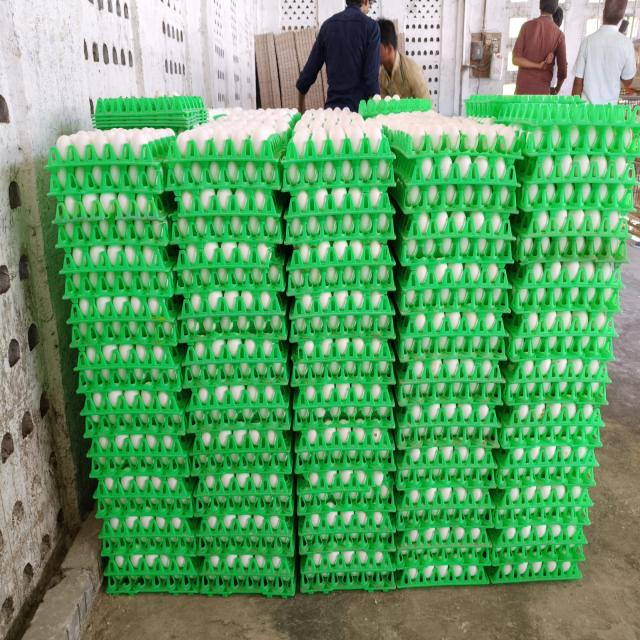egg_tray: (492, 122, 636, 582), (396, 211, 510, 586), (50, 130, 179, 410), (181, 289, 295, 595), (294, 335, 394, 591), (188, 383, 294, 595), (392, 116, 516, 294), (48, 129, 174, 299), (294, 382, 394, 591), (498, 309, 615, 487), (491, 397, 602, 582), (396, 310, 505, 492), (294, 333, 394, 524), (396, 401, 499, 586), (185, 334, 292, 509), (193, 420, 295, 595), (292, 291, 392, 467), (90, 434, 199, 592), (192, 429, 294, 595), (184, 336, 292, 492), (296, 420, 394, 591), (296, 421, 394, 591), (285, 187, 393, 341), (59, 204, 176, 346), (396, 422, 495, 587), (174, 196, 286, 341), (76, 338, 189, 481), (508, 262, 620, 403), (180, 242, 288, 388), (496, 354, 610, 487), (185, 336, 292, 476), (496, 356, 609, 488), (510, 209, 628, 334), (493, 403, 601, 538), (82, 389, 193, 518), (396, 442, 495, 586), (293, 335, 394, 473), (188, 385, 293, 517), (511, 105, 640, 211), (293, 337, 394, 472), (382, 112, 519, 211), (73, 316, 184, 438), (194, 470, 294, 594), (297, 423, 393, 551), (395, 209, 512, 314), (86, 406, 194, 519), (395, 210, 512, 314), (297, 468, 394, 592), (293, 355, 394, 474), (57, 201, 177, 301), (285, 187, 394, 296), (56, 203, 175, 301), (296, 417, 394, 535), (180, 283, 288, 390), (173, 189, 284, 292), (285, 187, 393, 289), (168, 109, 295, 194), (395, 310, 506, 407), (503, 310, 615, 405), (48, 129, 173, 213), (489, 483, 592, 582), (488, 485, 592, 583), (396, 483, 494, 587), (491, 485, 592, 582), (191, 420, 292, 516), (282, 109, 394, 193), (495, 401, 602, 488), (519, 181, 634, 259), (296, 468, 395, 553), (81, 386, 186, 466), (198, 511, 296, 596), (100, 512, 200, 593), (375, 111, 520, 166), (500, 103, 640, 158), (395, 352, 504, 422), (47, 127, 175, 185), (168, 132, 282, 195), (54, 194, 170, 253), (518, 154, 636, 211), (298, 496, 395, 565), (89, 434, 190, 500), (81, 385, 188, 447), (510, 289, 612, 354), (60, 244, 176, 301), (394, 210, 514, 265), (283, 134, 394, 193), (394, 261, 510, 317), (284, 187, 395, 245), (172, 189, 284, 246), (513, 210, 628, 265), (284, 187, 394, 244), (288, 239, 395, 297), (509, 260, 623, 313), (394, 147, 518, 195), (180, 289, 288, 344), (183, 335, 289, 390), (396, 526, 491, 587), (176, 241, 285, 294), (490, 523, 586, 583), (395, 311, 507, 362), (506, 311, 617, 362), (289, 290, 395, 343), (68, 295, 178, 346), (516, 154, 634, 201), (295, 420, 395, 475), (396, 356, 504, 406), (75, 343, 184, 392), (394, 147, 518, 189), (96, 475, 194, 528), (395, 403, 502, 451), (291, 337, 395, 386), (188, 383, 291, 432), (396, 441, 496, 491), (190, 428, 292, 477), (498, 402, 604, 449), (78, 340, 183, 387), (390, 174, 516, 213), (390, 175, 516, 213), (300, 543, 395, 593), (99, 515, 196, 563), (196, 511, 295, 558), (293, 382, 394, 428), (88, 434, 190, 479), (492, 484, 593, 529), (495, 444, 598, 488), (396, 485, 494, 531), (303, 519, 365, 590), (82, 395, 186, 437), (95, 475, 194, 519), (300, 549, 395, 593), (200, 554, 296, 597), (92, 96, 208, 130), (105, 554, 200, 595), (105, 554, 201, 593), (517, 181, 634, 212), (209, 108, 300, 147), (176, 188, 282, 221), (286, 186, 392, 219), (177, 188, 282, 217), (91, 109, 208, 134), (294, 108, 370, 144), (396, 559, 488, 588), (465, 95, 581, 117), (190, 337, 268, 369), (92, 113, 206, 134), (92, 114, 205, 134), (104, 524, 176, 554), (96, 118, 202, 137), (106, 574, 199, 595), (358, 94, 432, 118), (208, 107, 300, 126), (511, 541, 583, 561), (528, 260, 598, 280), (532, 212, 590, 234), (92, 433, 122, 474), (297, 406, 340, 426), (518, 359, 584, 372), (207, 107, 256, 122), (330, 337, 366, 354), (324, 339, 358, 356), (547, 315, 572, 338), (556, 312, 582, 330), (102, 482, 131, 498), (354, 575, 388, 588), (174, 532, 194, 553), (138, 485, 175, 496), (138, 483, 171, 495), (325, 292, 352, 306), (106, 390, 140, 399), (492, 548, 510, 564), (92, 298, 120, 307), (106, 484, 130, 494), (346, 521, 364, 534), (317, 342, 331, 356), (300, 295, 314, 309), (396, 132, 409, 146), (378, 359, 392, 371), (560, 375, 574, 387), (308, 523, 321, 535), (396, 132, 408, 145), (352, 427, 366, 438), (476, 162, 486, 177), (252, 363, 267, 373), (543, 334, 564, 341), (372, 558, 384, 570), (336, 470, 364, 475), (305, 362, 320, 371), (74, 299, 89, 308), (438, 317, 450, 328), (88, 411, 100, 422), (526, 314, 537, 325), (90, 447, 101, 458), (353, 511, 368, 519), (376, 429, 388, 439), (423, 172, 440, 179), (351, 131, 364, 140), (544, 314, 554, 325), (328, 523, 340, 532), (103, 486, 115, 495), (448, 274, 458, 284), (91, 392, 100, 403), (514, 292, 523, 303), (512, 354, 526, 361), (146, 455, 154, 467), (114, 461, 126, 469), (441, 431, 448, 444), (550, 334, 565, 340), (284, 109, 298, 115), (307, 430, 317, 438), (418, 268, 426, 278), (327, 225, 337, 233), (499, 237, 510, 244), (501, 540, 512, 547), (122, 534, 133, 541), (369, 442, 380, 449), (294, 358, 300, 370), (456, 426, 464, 435), (527, 314, 536, 322), (384, 361, 392, 370), (574, 311, 588, 316), (151, 440, 156, 454), (316, 342, 322, 353), (464, 531, 475, 537), (568, 336, 581, 341), (246, 485, 254, 493), (185, 245, 194, 252), (574, 317, 580, 327), (509, 136, 515, 146), (274, 342, 284, 348), (218, 267, 226, 274), (584, 336, 592, 343), (155, 450, 163, 457), (374, 516, 380, 525), (85, 365, 91, 374), (473, 432, 483, 437), (453, 314, 460, 321), (123, 299, 130, 306), (566, 341, 573, 348), (374, 123, 381, 130), (242, 558, 248, 566), (198, 245, 206, 251), (609, 254, 617, 260), (312, 557, 318, 565), (294, 359, 300, 367), (156, 542, 164, 548), (356, 242, 362, 250), (256, 245, 265, 250), (561, 317, 570, 322), (585, 336, 592, 342), (366, 433, 373, 439), (592, 317, 597, 325), (254, 548, 264, 552), (524, 292, 532, 297), (298, 508, 302, 517), (240, 481, 244, 490), (180, 132, 192, 135), (124, 411, 130, 417), (148, 299, 157, 303), (299, 491, 303, 500), (453, 574, 462, 578), (386, 360, 391, 367), (225, 549, 232, 554), (260, 522, 264, 530), (376, 548, 384, 552), (446, 286, 450, 294), (152, 444, 156, 452), (615, 217, 619, 225), (207, 484, 213, 489), (222, 243, 227, 249), (96, 463, 102, 468), (149, 462, 155, 467), (479, 537, 484, 543), (444, 425, 450, 430), (569, 336, 576, 340), (178, 229, 182, 236), (154, 186, 161, 190), (111, 336, 120, 339), (341, 538, 346, 543), (130, 487, 135, 492), (294, 362, 299, 367), (112, 451, 117, 456), (435, 551, 440, 556), (325, 242, 330, 247), (358, 565, 364, 569), (197, 199, 200, 207), (602, 314, 606, 320), (384, 526, 390, 530), (111, 463, 117, 467), (180, 461, 184, 467), (469, 438, 473, 444), (450, 422, 456, 426), (327, 425, 331, 431), (533, 577, 544, 579), (372, 532, 383, 534), (364, 546, 371, 549), (592, 361, 599, 364), (530, 186, 537, 189), (334, 317, 337, 324), (329, 317, 332, 324), (385, 527, 389, 532), (365, 517, 370, 521), (247, 487, 251, 492), (195, 131, 200, 135), (125, 461, 130, 465), (151, 461, 155, 466), (468, 160, 472, 165), (552, 343, 556, 348), (380, 341, 384, 346), (426, 574, 430, 579), (286, 132, 290, 137), (256, 109, 262, 112), (241, 483, 244, 489), (411, 432, 417, 435), (461, 299, 467, 302), (460, 547, 469, 549), (83, 407, 86, 413), (267, 132, 270, 138), (316, 549, 320, 553), (405, 254, 409, 258), (472, 317, 476, 321), (558, 312, 562, 316), (214, 565, 218, 569), (120, 404, 124, 408), (159, 463, 163, 467), (59, 204, 61, 212), (179, 202, 182, 207), (103, 458, 106, 463), (107, 447, 110, 452), (115, 321, 120, 324), (96, 299, 101, 302), (465, 576, 470, 579), (361, 341, 363, 348), (318, 430, 322, 433), (87, 398, 89, 404), (269, 525, 272, 529), (329, 317, 331, 323), (389, 316, 392, 320), (559, 336, 563, 339), (207, 493, 211, 496), (549, 312, 555, 314), (257, 273, 260, 277), (429, 405, 433, 408), (603, 336, 606, 340), (436, 300, 440, 303), (400, 300, 402, 306), (436, 277, 440, 280), (326, 452, 330, 455), (122, 465, 125, 469), (496, 176, 500, 179), (576, 121, 579, 125), (184, 491, 188, 494), (531, 327, 535, 330), (106, 546, 110, 549), (140, 533, 143, 537), (462, 519, 464, 525), (338, 145, 342, 148), (470, 236, 472, 241), (506, 385, 508, 390), (577, 338, 582, 340), (400, 281, 402, 286), (179, 364, 181, 369), (146, 307, 148, 312), (384, 572, 387, 575), (387, 574, 390, 577), (385, 558, 388, 561), (257, 484, 260, 487), (567, 312, 570, 315), (523, 185, 526, 188), (503, 574, 506, 577), (313, 132, 316, 135), (367, 428, 370, 431), (301, 247, 304, 250), (359, 547, 363, 549), (298, 368, 300, 372), (584, 488, 586, 492), (194, 200, 196, 204), (418, 361, 422, 363), (226, 278, 228, 282), (444, 301, 448, 303), (208, 567, 210, 571), (141, 461, 145, 463), (424, 552, 428, 554), (571, 548, 573, 552), (583, 345, 587, 347), (316, 300, 320, 302), (386, 390, 388, 394), (324, 524, 326, 527), (412, 198, 414, 201), (354, 567, 356, 570), (308, 561, 310, 564), (304, 351, 306, 354), (418, 327, 420, 330), (267, 110, 273, 111), (262, 109, 264, 112), (183, 194, 186, 196), (426, 363, 428, 366), (443, 361, 446, 363), (231, 418, 234, 420), (281, 286, 283, 289), (389, 132, 391, 135), (510, 131, 513, 133), (423, 115, 426, 117), (550, 247, 552, 250), (464, 162, 466, 165), (163, 317, 166, 319), (133, 490, 135, 493), (389, 316, 391, 319), (183, 550, 186, 552), (328, 364, 331, 366), (360, 293, 362, 296), (353, 292, 356, 294), (299, 468, 302, 470), (334, 243, 337, 245), (343, 242, 346, 244), (420, 578, 423, 580), (481, 577, 484, 579), (416, 495, 418, 498), (325, 136, 327, 139), (470, 314, 475, 315), (197, 364, 202, 365), (316, 540, 318, 542), (355, 535, 357, 537), (337, 427, 341, 428), (408, 151, 410, 153), (588, 337, 590, 339), (400, 245, 401, 249), (218, 487, 220, 489), (234, 416, 236, 418), (578, 382, 580, 384), (235, 249, 237, 251), (529, 420, 531, 422), (208, 572, 210, 574), (216, 231, 220, 232), (145, 380, 147, 382), (144, 373, 146, 375), (89, 407, 91, 409), (173, 340, 174, 344), (610, 265, 612, 267), (466, 166, 468, 168), (78, 205, 80, 207), (498, 573, 499, 577), (148, 563, 152, 564), (314, 349, 318, 350), (162, 525, 164, 527), (426, 582, 430, 583), (387, 523, 390, 524), (540, 369, 541, 372), (131, 411, 134, 412), (608, 269, 609, 272), (463, 171, 466, 172), (136, 299, 139, 300), (134, 487, 135, 490), (81, 300, 82, 303), (389, 489, 392, 490), (142, 540, 145, 541), (420, 340, 423, 341), (319, 129, 322, 130), (441, 151, 442, 153), (612, 275, 613, 277), (301, 524, 302, 526), (508, 260, 510, 261), (264, 110, 266, 111), (67, 235, 68, 237), (260, 480, 261, 482), (240, 274, 242, 275), (527, 425, 529, 426), (360, 540, 362, 541), (560, 258, 562, 259), (133, 456, 134, 458), (162, 451, 164, 452), (123, 443, 124, 445), (88, 418, 90, 419), (611, 327, 612, 329), (578, 574, 579, 576), (365, 365, 366, 367), (165, 549, 167, 550), (165, 436, 167, 437), (360, 407, 362, 408), (294, 405, 296, 406), (307, 248, 308, 250), (432, 265, 434, 266), (478, 578, 480, 579), (447, 573, 448, 575), (378, 138, 380, 139), (365, 366, 366, 367), (367, 345, 368, 346), (498, 209, 499, 210), (556, 515, 557, 516), (560, 332, 561, 333), (165, 436, 166, 437), (438, 411, 439, 412), (467, 278, 468, 279), (482, 269, 483, 270), (434, 265, 435, 266), (441, 180, 442, 181), (496, 542, 497, 543), (347, 558, 348, 559), (105, 543, 106, 544), (365, 400, 366, 401), (321, 247, 322, 248), (451, 578, 452, 579), (318, 354, 319, 354), (554, 283, 556, 283), (521, 281, 521, 281), (361, 577, 361, 577), (367, 565, 368, 565), (362, 561, 363, 561), (336, 318, 336, 320), (412, 256, 412, 257), (399, 243, 399, 244), (236, 421, 237, 421), (59, 234, 59, 236), (142, 541, 144, 541), (230, 410, 230, 410), (432, 436, 432, 437), (484, 406, 486, 406), (452, 405, 455, 405), (336, 490, 336, 490), (445, 181, 446, 181), (501, 130, 501, 130), (254, 567, 254, 568), (264, 514, 264, 514), (190, 429, 190, 430), (108, 409, 108, 410), (294, 234, 297, 234), (110, 467, 110, 468), (170, 452, 171, 452), (174, 496, 174, 497), (174, 321, 174, 323), (345, 534, 346, 534), (347, 334, 348, 334), (541, 316, 541, 318), (119, 547, 119, 547), (123, 543, 123, 543), (130, 527, 130, 528), (481, 441, 482, 441), (425, 443, 426, 443), (159, 523, 159, 523), (321, 403, 322, 403), (370, 399, 370, 400), (443, 578, 443, 578), (473, 565, 478, 565), (300, 152, 302, 152)
